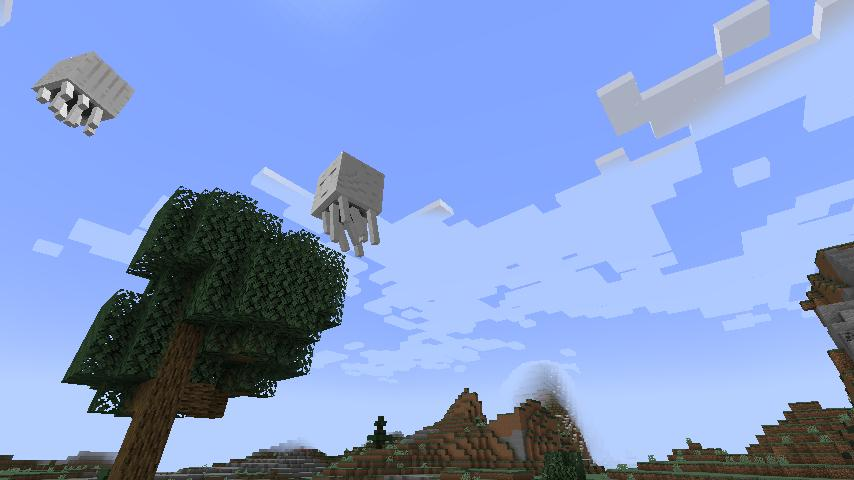ghast: (28, 49, 134, 139), (309, 151, 387, 259)
